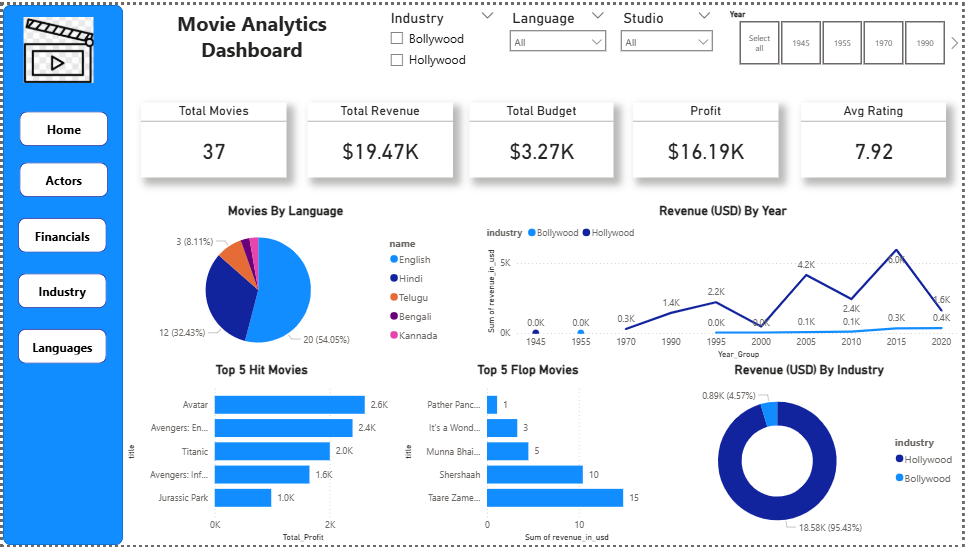

The dashboard page shown, as its layout file describes it:
{"tool":"powerbi","page":{"name":"Main Dashboard","canvas":[1280,720],"ordinal":1},"visuals":[{"type":"shape","box":[0,0,160,720],"z":0},{"type":"textbox","box":[160.1,0,343.5,103.3],"z":1000},{"type":"card","title":"Total Movies","fields":{"Values":["CountNonNull(movie_db movies.movie_id)"]},"box":[184,130,194,100],"z":2000},{"type":"card","title":"Total Revenue","fields":{"Values":["Sum(movie_db financials.revenue_in_usd)"]},"box":[406,130,194,100],"z":3000},{"type":"card","title":"Total Budget","fields":{"Values":["Sum(movie_db financials.budget_in_usd)"]},"box":[622,130,192,100],"z":4000},{"type":"card","title":"Profit","fields":{"Values":["movie_db actors.Total_Profit"]},"box":[840,130,194,100],"z":5000},{"type":"card","title":"Avg Rating","fields":{"Values":["movie_db actors.Avg Rating"]},"box":[1063.3,130,193.3,100],"z":6000},{"type":"pieChart","title":"Movies By Language","fields":{"Category":["movie_db languages.name"],"Y":["CountNonNull(movie_db movies.movie_id)"]},"box":[160,264,434,212],"z":7000},{"type":"lineChart","title":"Revenue (USD) By Year","fields":{"Category":["movie_db movies.Year_Group"],"Y":["Sum(movie_db financials.revenue_in_usd)"],"Series":["movie_db movies.industry"]},"box":[640,264,640,212],"z":8000},{"type":"clusteredBarChart","title":"Top 5 Hit Movies","fields":{"Category":["movie_db movies.title"],"Y":["movie_db actors.Total_Profit"]},"box":[160,476,370,244],"z":9000},{"type":"clusteredBarChart","title":"Top 5 Flop Movies ","fields":{"Category":["movie_db movies.title"],"Y":["Sum(movie_db financials.revenue_in_usd)"]},"box":[530,476,340,244],"z":10000},{"type":"donutChart","title":"Revenue (USD) By Industry","fields":{"Category":["movie_db movies.industry"],"Y":["Sum(movie_db financials.revenue_in_usd)"]},"box":[870,476,410,244],"z":11000},{"type":"slicer","fields":{"Values":["movie_db languages.name"]},"box":[666,0,148,104],"z":12000},{"type":"slicer","fields":{"Values":["movie_db movies.studio"]},"box":[814,0,142,104],"z":13000},{"type":"slicer","fields":{"Values":["movie_db movies.Year_Group"]},"box":[956,0,324,86],"z":14000},{"type":"slicer","fields":{"Values":["movie_db movies.industry"]},"box":[503.6,0,163,103.3],"z":15000},{"type":"actionButton","title":"Financials","box":[20,284,118,46],"z":16000},{"type":"actionButton","title":"Financials","box":[20,432,118,46],"z":17000},{"type":"actionButton","title":"Financials","box":[20,358,118,46],"z":18000},{"type":"actionButton","title":"Financials","box":[22,210,118,46],"z":19000},{"type":"actionButton","title":"Financials","box":[22,142,118,46],"z":20000},{"type":"image","box":[10,16,128,88],"z":21000}]}

Visuals, with their boxes in screenshot pixels (x1, y1, x2, y2), scaled from the page's 1280x720 canvas onto the 965x547 screenshot:
shape: {"left": 0, "top": 0, "right": 121, "bottom": 546}
textbox: {"left": 121, "top": 0, "right": 380, "bottom": 78}
"Total Movies" card: {"left": 139, "top": 99, "right": 285, "bottom": 175}
"Total Revenue" card: {"left": 306, "top": 99, "right": 452, "bottom": 175}
"Total Budget" card: {"left": 469, "top": 99, "right": 614, "bottom": 175}
"Profit" card: {"left": 633, "top": 99, "right": 780, "bottom": 175}
"Avg Rating" card: {"left": 802, "top": 99, "right": 947, "bottom": 175}
"Movies By Language" pieChart: {"left": 121, "top": 201, "right": 448, "bottom": 362}
"Revenue (USD) By Year" lineChart: {"left": 482, "top": 201, "right": 964, "bottom": 362}
"Top 5 Hit Movies" clusteredBarChart: {"left": 121, "top": 362, "right": 400, "bottom": 546}
"Top 5 Flop Movies " clusteredBarChart: {"left": 400, "top": 362, "right": 656, "bottom": 546}
"Revenue (USD) By Industry" donutChart: {"left": 656, "top": 362, "right": 964, "bottom": 546}
slicer - movie_db languages.name: {"left": 502, "top": 0, "right": 614, "bottom": 79}
slicer - movie_db movies.studio: {"left": 614, "top": 0, "right": 721, "bottom": 79}
slicer - movie_db movies.Year_Group: {"left": 721, "top": 0, "right": 964, "bottom": 65}
slicer - movie_db movies.industry: {"left": 380, "top": 0, "right": 503, "bottom": 78}
"Financials" actionButton: {"left": 15, "top": 216, "right": 104, "bottom": 251}
"Financials" actionButton: {"left": 15, "top": 328, "right": 104, "bottom": 363}
"Financials" actionButton: {"left": 15, "top": 272, "right": 104, "bottom": 307}
"Financials" actionButton: {"left": 17, "top": 160, "right": 106, "bottom": 194}
"Financials" actionButton: {"left": 17, "top": 108, "right": 106, "bottom": 143}
image: {"left": 8, "top": 12, "right": 104, "bottom": 79}
